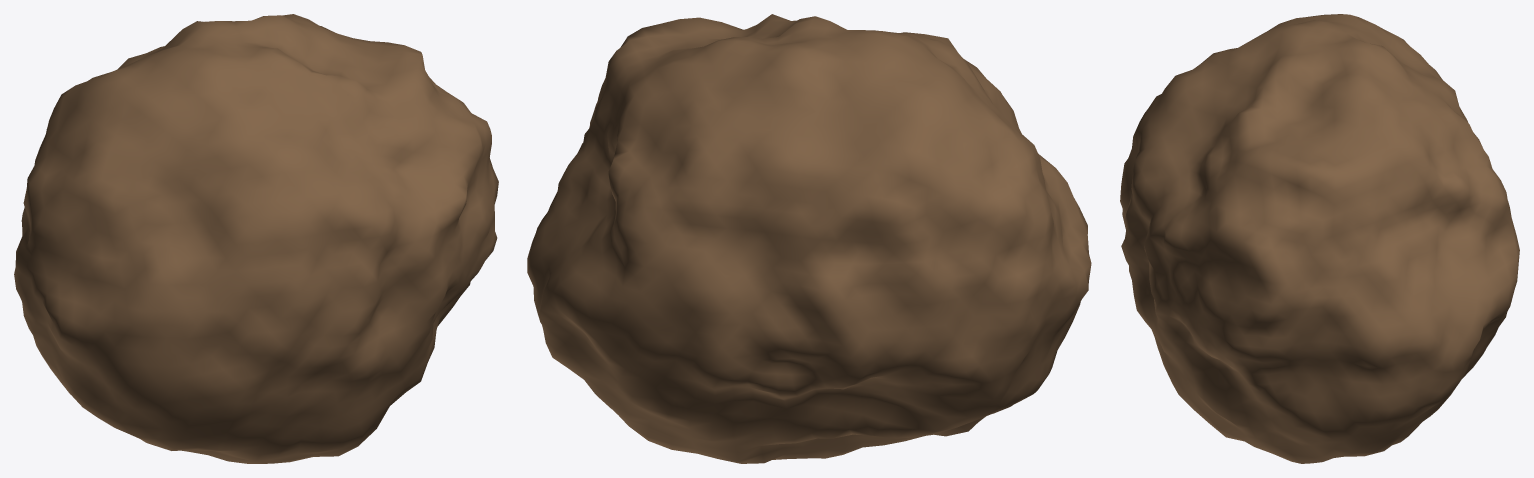
Rendered from soil_grain_test.glb.
The picture shows the model from 3 angles, left to right: view 1: azimuth 30°, elevation 25°; view 2: azimuth 150°, elevation 25°; view 3: azimuth 270°, elevation 25°; orthographic projection. The views are drawn at different scales.
Visible parts, largest first — view 1: soil_grain; view 2: soil_grain; view 3: soil_grain.
Part boxes in pixels (x1,y1,x2,y2): soil_grain: (14,14,498,463); soil_grain: (527,14,1091,463); soil_grain: (1120,14,1519,463).
Size of the model in its own units: 2.23 by 1.91 by 1.86.
